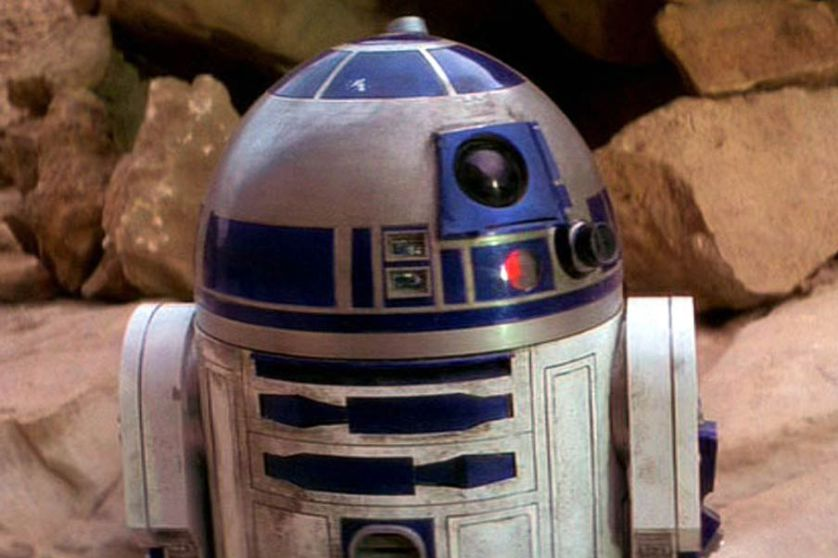r2d2: (120, 17, 727, 558)
